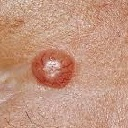Carcinoma: (29, 46, 79, 90)
